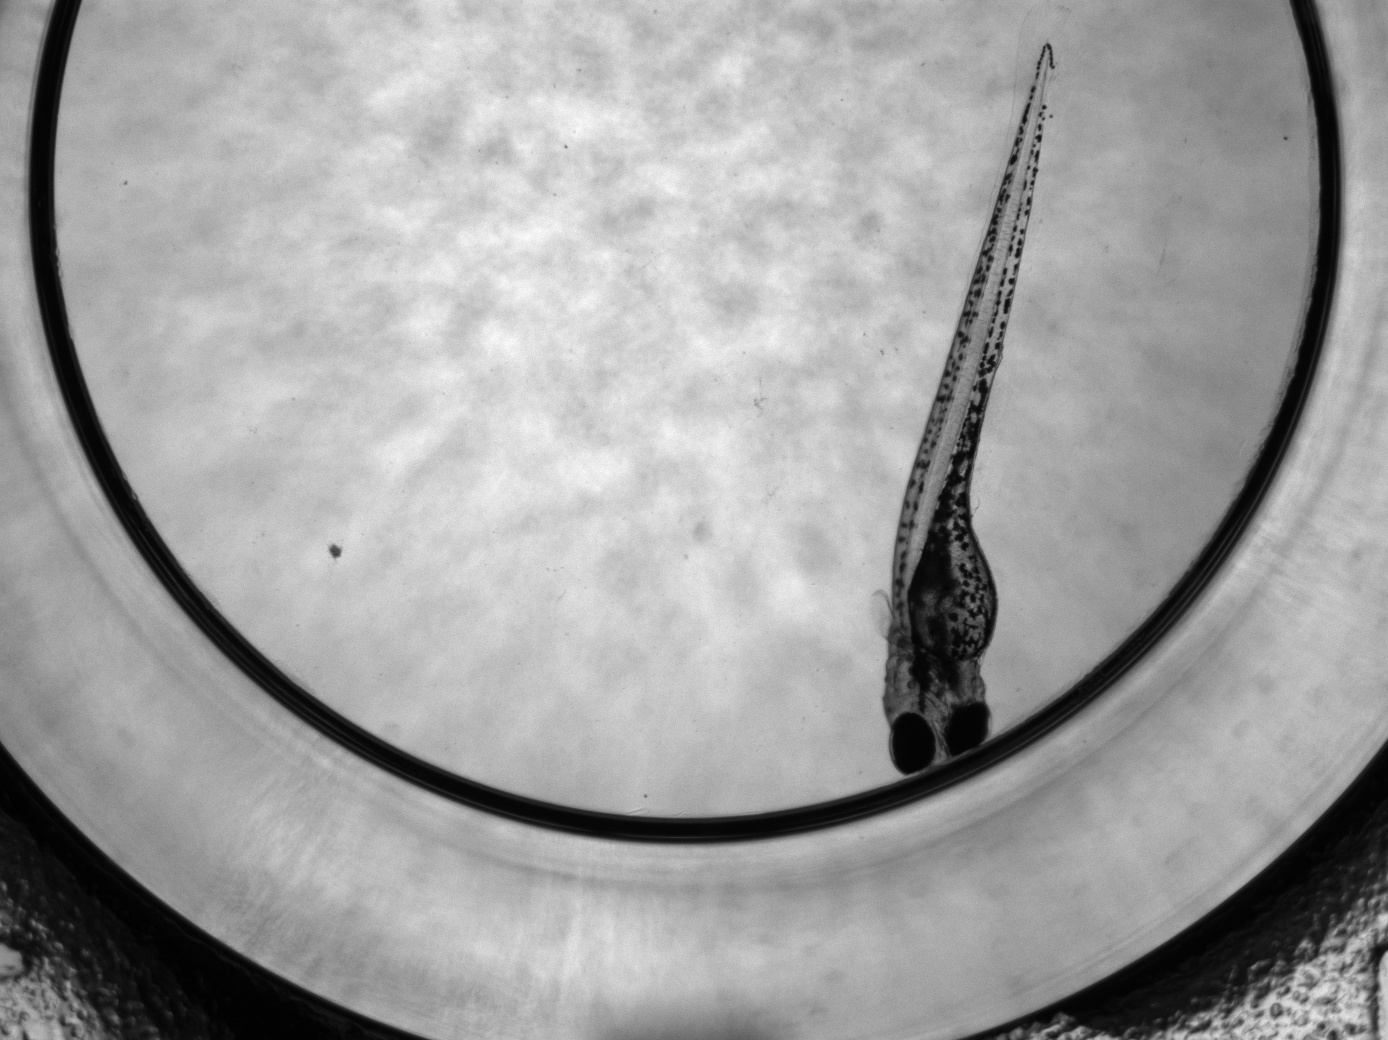embryo: (877, 42, 1053, 775)
eye: (889, 712, 936, 775), (944, 701, 990, 759)
yolksac: (906, 539, 999, 663)
